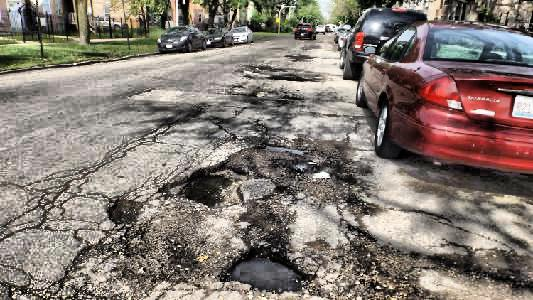pothole: (157, 159, 255, 210), (217, 247, 312, 293), (105, 197, 146, 224), (269, 73, 310, 81), (309, 169, 332, 181), (253, 91, 267, 99)
